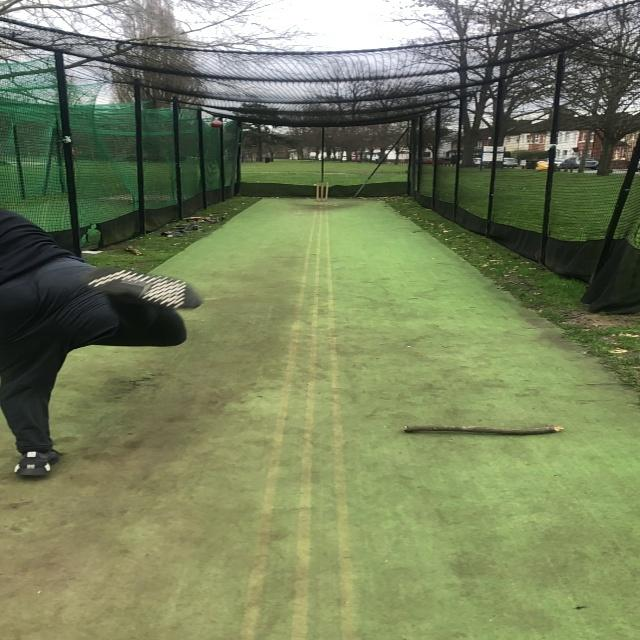ball: (210, 119, 224, 129)
